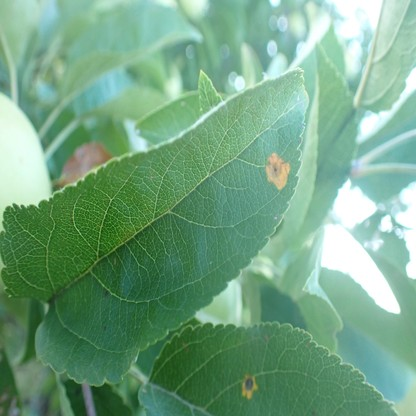rust: (266, 153, 290, 188), (241, 374, 257, 400)
